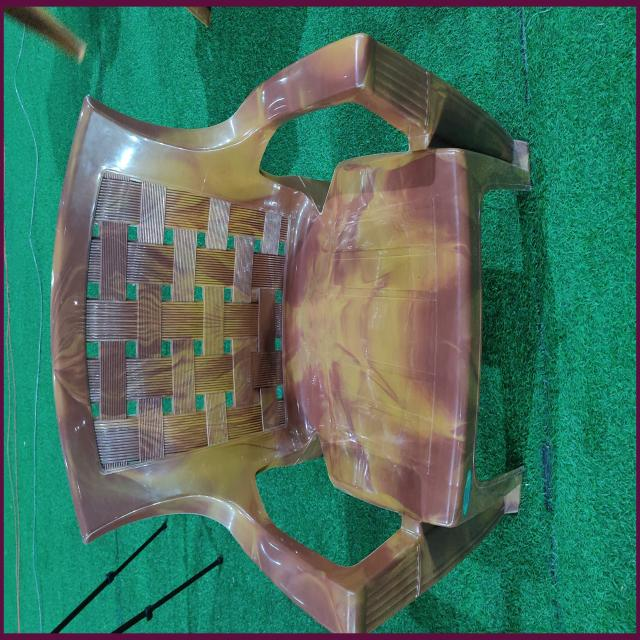Camer Stand: (49, 31, 532, 633)
